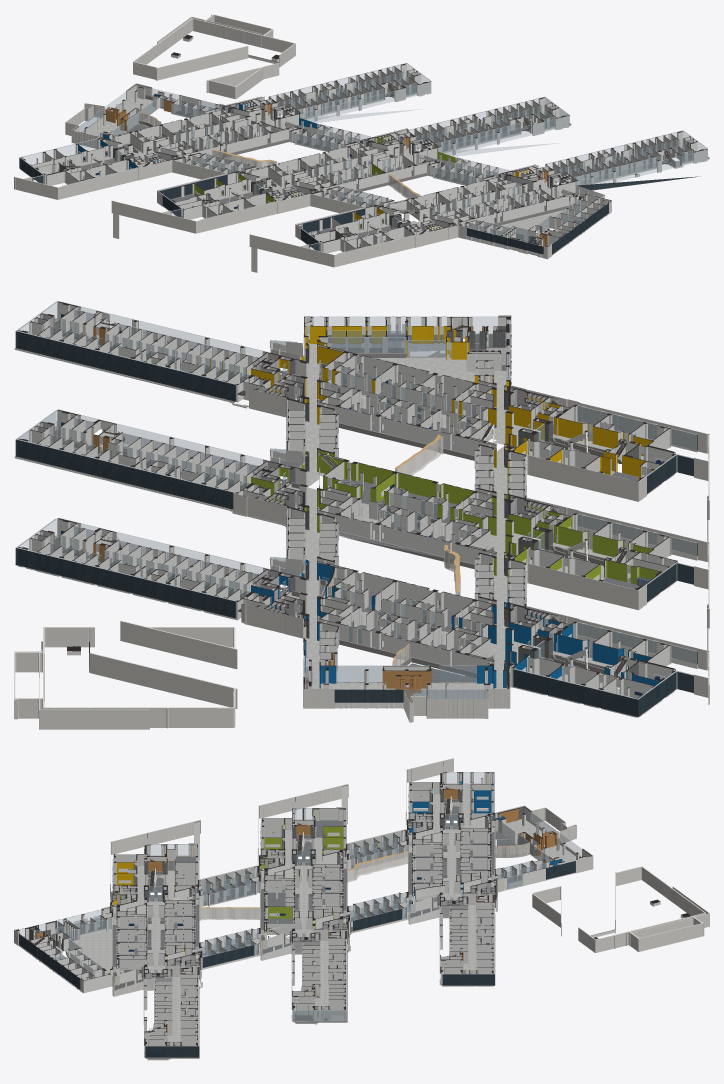
File: floor_2.glb
3 views of the same model, one above another, from view 1: azimuth 30°, elevation 25°; view 2: azimuth 150°, elevation 25°; view 3: azimuth 270°, elevation 25° (orthographic). The views are drawn at different scales.
Visible parts, largest first — view 1: wall_paint, glass, grc_screen, wall_top, frame, glass_ext, floor_granite, granite_dark, wall_ceramic, floor_vinyl, wall_granite, mashrabiya (+5 smaller); view 2: wall_paint, grc_screen, glass, glass_ext, wall_top, floor_granite, frame, wall_accent_B, wall_accent_C, granite_dark, wall_accent_A, wall_ceramic (+10 smaller); view 3: wall_paint, grc_screen, wall_top, floor_granite, glass, floor_vinyl, frame, glass_ext, wall_ceramic, granite_dark, mashrabiya, wall_granite (+9 smaller).
Part boxes in pixels (left/top/right/bottom): wall_paint: left=22, top=36, right=707, bottom=272; glass: left=23, top=64, right=707, bottom=253; grc_screen: left=14, top=14, right=551, bottom=267; wall_top: left=21, top=35, right=707, bottom=249; frame: left=19, top=63, right=707, bottom=253; glass_ext: left=19, top=136, right=700, bottom=254; floor_granite: left=56, top=75, right=684, bottom=247; granite_dark: left=80, top=88, right=708, bottom=254; wall_ceramic: left=133, top=72, right=696, bottom=230; floor_vinyl: left=81, top=94, right=709, bottom=238; wall_granite: left=59, top=106, right=583, bottom=245; mashrabiya: left=138, top=112, right=420, bottom=198; wall_paint: left=27, top=302, right=708, bottom=698; grc_screen: left=14, top=315, right=709, bottom=729; glass: left=19, top=303, right=697, bottom=702; glass_ext: left=15, top=324, right=697, bottom=716; wall_top: left=18, top=301, right=708, bottom=698; floor_granite: left=51, top=334, right=643, bottom=701; frame: left=16, top=301, right=697, bottom=699; wall_accent_B: left=234, top=435, right=658, bottom=596; wall_accent_C: left=198, top=326, right=652, bottom=479; granite_dark: left=15, top=318, right=696, bottom=702; wall_accent_A: left=251, top=559, right=659, bottom=687; wall_ceramic: left=37, top=314, right=558, bottom=634; wall_paint: left=17, top=772, right=684, bottom=1045; grc_screen: left=14, top=758, right=709, bottom=978; wall_top: left=15, top=772, right=690, bottom=1045; floor_granite: left=56, top=784, right=575, bottom=1042; glass: left=20, top=772, right=581, bottom=1037; floor_vinyl: left=113, top=806, right=536, bottom=1059; frame: left=19, top=766, right=581, bottom=1046; glass_ext: left=19, top=815, right=575, bottom=1057; wall_ceramic: left=111, top=816, right=496, bottom=1045; granite_dark: left=19, top=795, right=580, bottom=1057; mashrabiya: left=199, top=843, right=529, bottom=920; wall_granite: left=29, top=791, right=524, bottom=983.
Bounding box in the file's own units: 240 × 16.4 × 245.
Materials: 47 (11 with a texture image).
